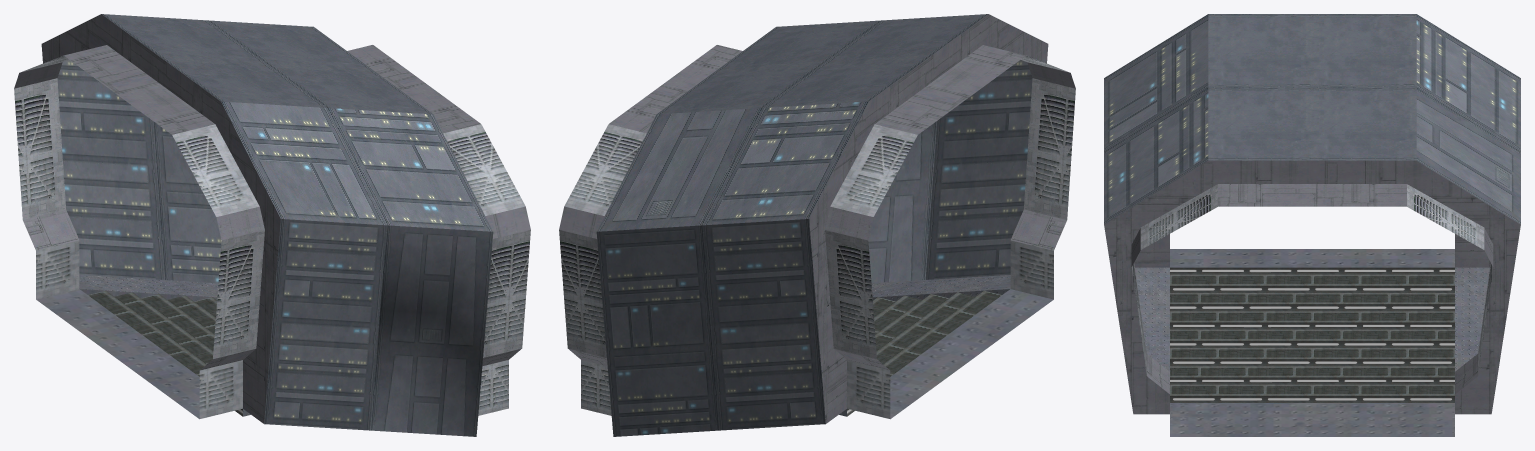
File: mun_tato_starport_s01_u01_r8_ticket1_mesh_r8.fbx
3 views of the same model, side by side, from view 1: azimuth 30°, elevation 25°; view 2: azimuth 150°, elevation 25°; view 3: azimuth 270°, elevation 25° (orthographic). The views are drawn at different scales.
Visible parts, largest first — view 1: mesh_node; view 2: mesh_node; view 3: mesh_node.
Boxes of the visible parts, x1,y1,x2,y2 form: mesh_node: (14,14,530,436); mesh_node: (559,14,1075,436); mesh_node: (1104,14,1520,436).
Size of the model in its own units: 5.01 by 5.5 by 6.7.
